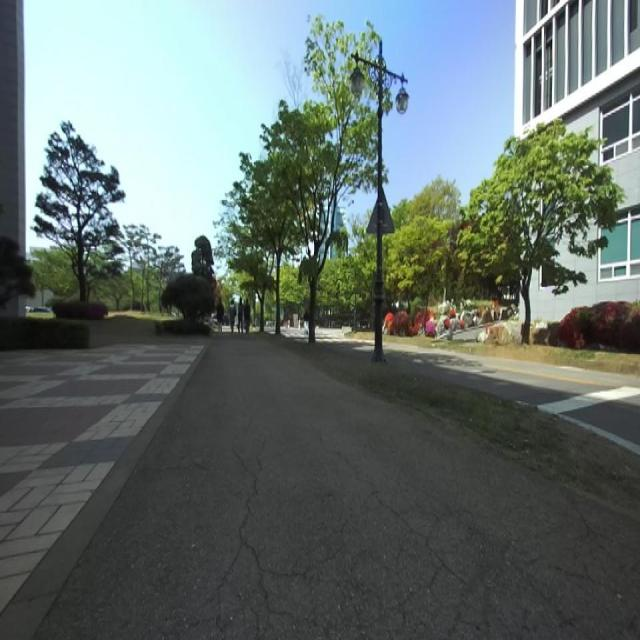sidewalk: (0, 334, 640, 638)
